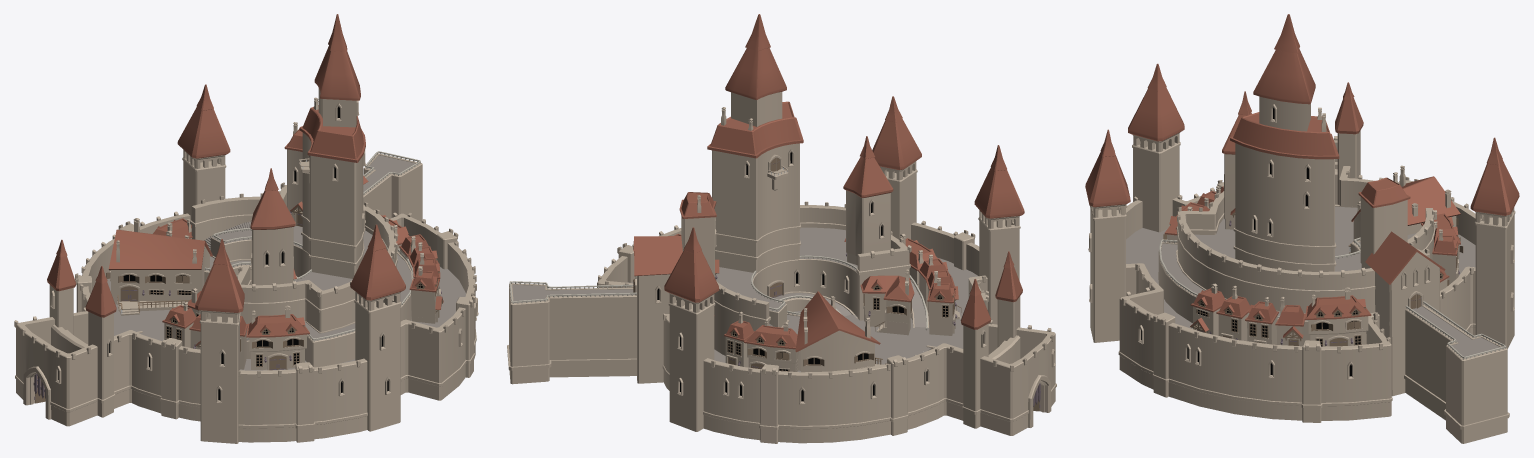
File: MissionTable_Castle.fbx
3 views of the same model, side by side, from view 1: azimuth 30°, elevation 25°; view 2: azimuth 150°, elevation 25°; view 3: azimuth 270°, elevation 25° (orthographic). The views are drawn at different scales.
Parts seen in each view (by area): view 1: Outter Wall, Cylinder.026, Tier 3 Wall, Tower Tall.003, Tower Tall.004, Cylinder.022, Cylinder.054, Back Alley Path, Tier 1 Floor, Tier 3 Floor, Cylinder.051, Cylinder.056 (+30 smaller); view 2: Outter Wall, Cylinder.054, Cylinder.026, Tier 3 Floor, Tower Tall.001, Tier 3 Wall, Tier 1 Floor, Cylinder.001, Cylinder.051, Cylinder.056, Cylinder.028, Tower Tall.003 (+31 smaller); view 3: Outter Wall, Cylinder.026, Cylinder.054, Tier 3 Wall, Tower Tall.001, Tower Tall.004, Cylinder.001, Tower Tall.003, Cylinder.051, Tier 1 Floor, Cylinder.056, Tower Tall Roof.001 (+32 smaller).
Part boxes in pixels (left/top/right/bottom): Outter Wall: left=16, top=213, right=475, bottom=442; Cylinder.026: left=301, top=132, right=364, bottom=278; Tier 3 Wall: left=191, top=185, right=396, bottom=331; Tower Tall.003: left=200, top=320, right=239, bottom=443; Tower Tall.004: left=355, top=303, right=400, bottom=431; Cylinder.022: left=108, top=229, right=212, bottom=269; Cylinder.054: left=363, top=153, right=422, bottom=221; Back Alley Path: left=246, top=251, right=412, bottom=367; Tier 1 Floor: left=105, top=266, right=465, bottom=370; Tier 3 Floor: left=210, top=226, right=372, bottom=290; Cylinder.051: left=299, top=105, right=365, bottom=162; Cylinder.056: left=314, top=14, right=360, bottom=100; Outter Wall: left=597, top=222, right=1055, bottom=443; Cylinder.054: left=509, top=283, right=636, bottom=384; Cylinder.026: left=712, top=143, right=801, bottom=273; Tier 3 Floor: left=715, top=227, right=857, bottom=327; Tower Tall.001: left=669, top=306, right=714, bottom=431; Tier 3 Wall: left=714, top=205, right=909, bottom=355; Tier 1 Floor: left=628, top=257, right=978, bottom=372; Cylinder.001: left=637, top=274, right=670, bottom=383; Cylinder.051: left=707, top=101, right=803, bottom=158; Cylinder.056: left=725, top=14, right=786, bottom=99; Cylinder.028: left=846, top=190, right=890, bottom=265; Tower Tall.003: left=979, top=221, right=1019, bottom=324; Outter Wall: left=1119, top=140, right=1475, bottom=420; Cylinder.026: left=1233, top=143, right=1336, bottom=271; Cylinder.054: left=1405, top=305, right=1507, bottom=443; Tier 3 Wall: left=1177, top=191, right=1433, bottom=313; Tower Tall.001: left=1475, top=215, right=1514, bottom=348; Tower Tall.004: left=1090, top=209, right=1125, bottom=342; Cylinder.001: left=1368, top=252, right=1440, bottom=396; Tower Tall.003: left=1133, top=146, right=1179, bottom=232; Cylinder.051: left=1230, top=112, right=1339, bottom=159; Tier 1 Floor: left=1126, top=204, right=1475, bottom=328; Cylinder.056: left=1253, top=14, right=1315, bottom=104; Tower Tall Roof.001: left=1128, top=63, right=1184, bottom=141.
Size of the model in its own units: 1568 by 1070 by 1222.
